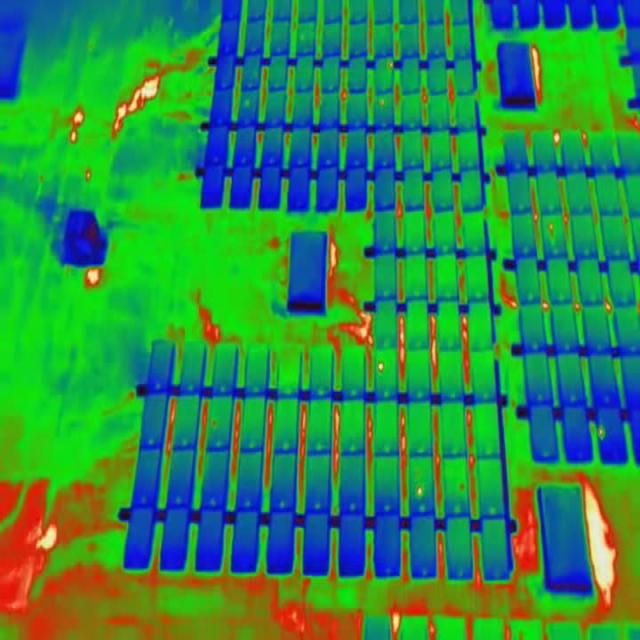Orange-Spots: (548, 221, 555, 242), (416, 484, 423, 496), (377, 361, 384, 373), (458, 483, 466, 492), (598, 427, 604, 438), (380, 98, 386, 109), (388, 62, 394, 70)
